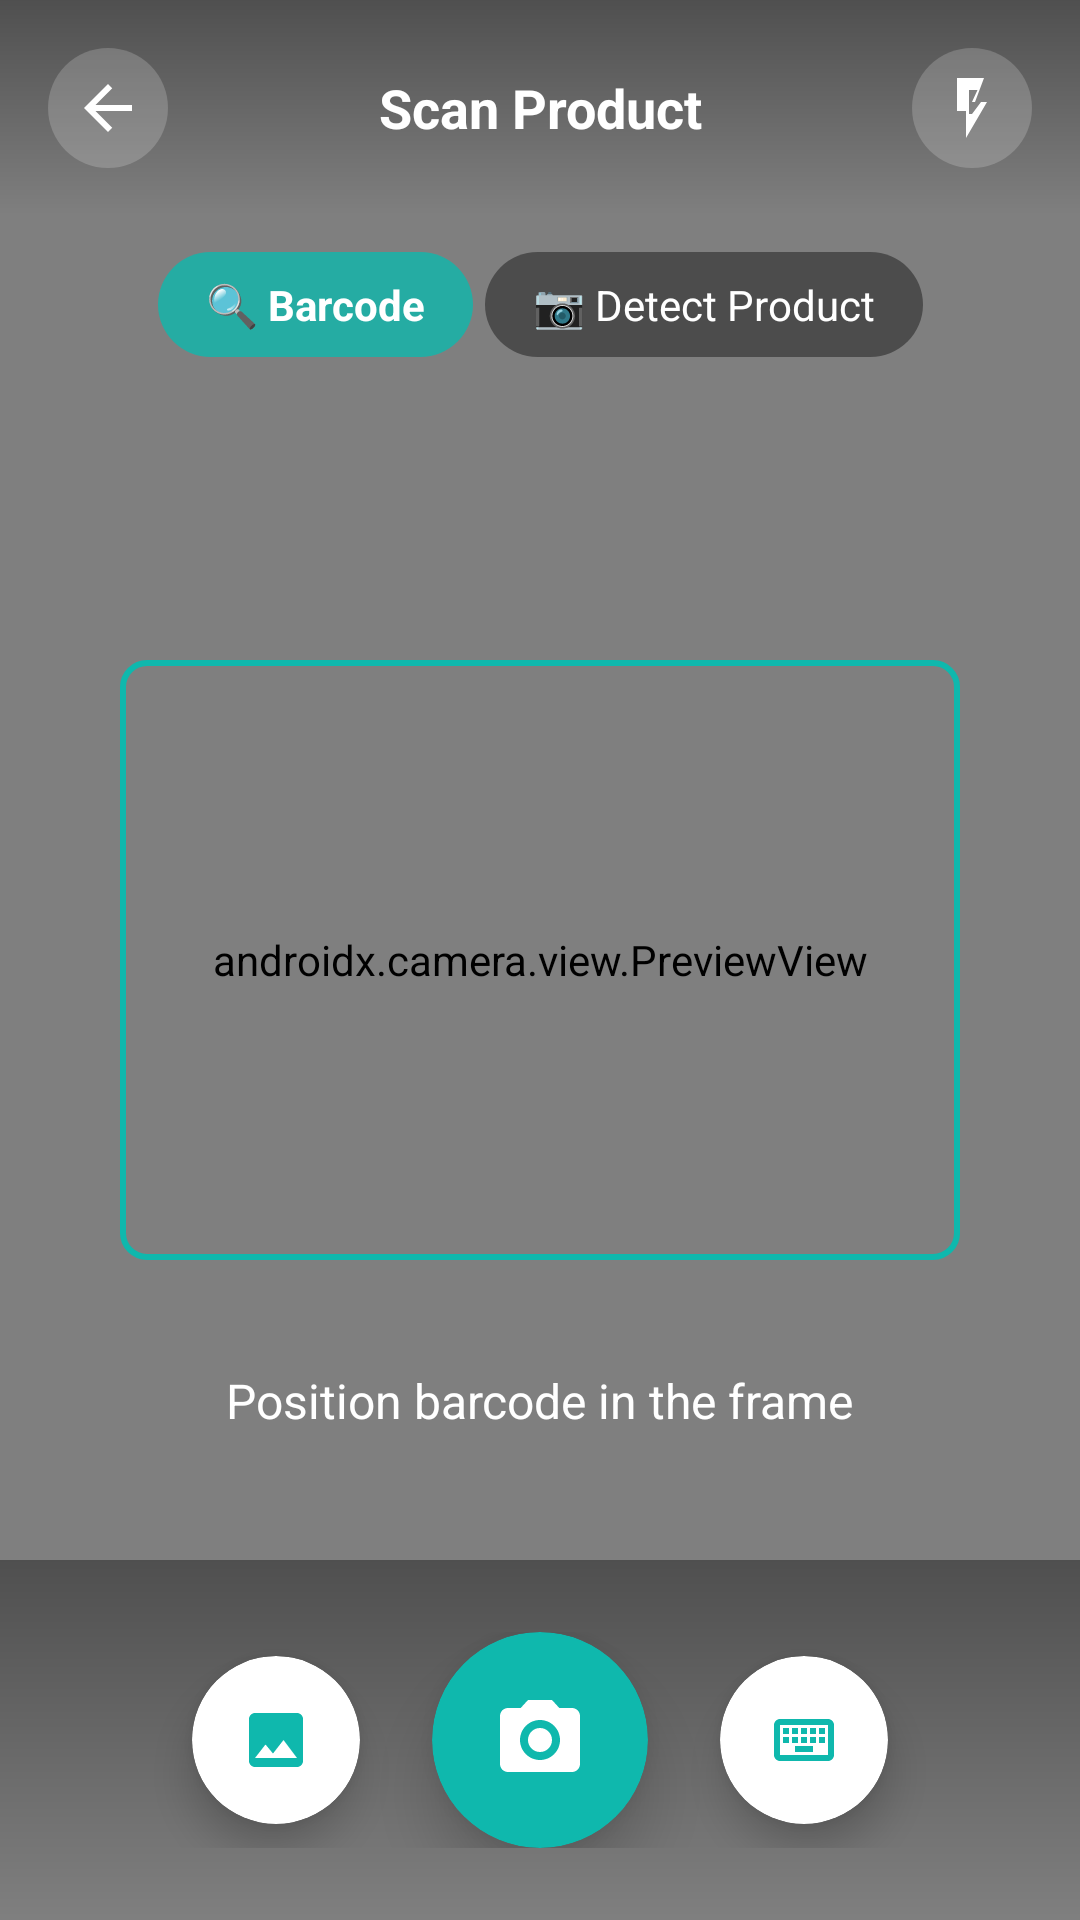

Where to tap for icons on this 1080px×1920px app screen, as (x,y):
Back: (108,108)
Gallery: (276,1740)
Manual Entry: (804,1740)
Take Photo: (540,1736)
Toggle Flash: (972,108)
